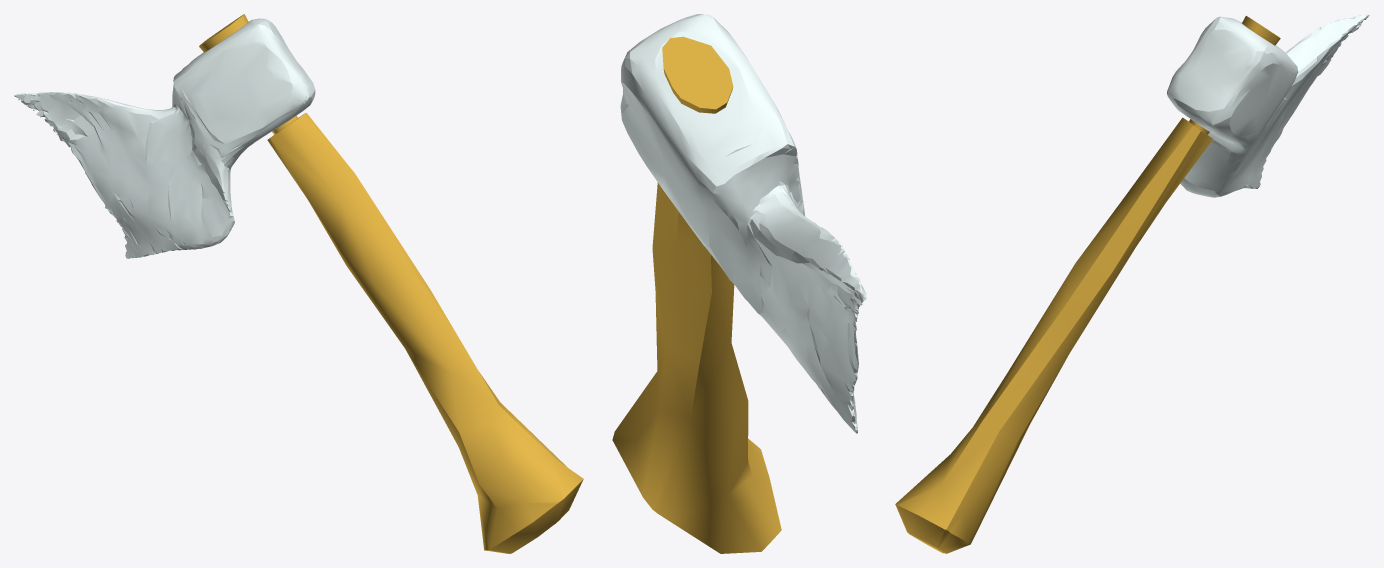
File: axe-iron-4.glb
3 views of the same model, side by side, from view 1: azimuth 30°, elevation 25°; view 2: azimuth 150°, elevation 25°; view 3: azimuth 270°, elevation 25° (orthographic). The views are drawn at different scales.
Visible parts, largest first — view 1: iron-axe-head, iron-axe; view 2: iron-axe-head, iron-axe; view 3: iron-axe, iron-axe-head.
Boxes of the visible parts, left/top/right/bottom form: iron-axe-head: left=14, top=18, right=315, bottom=258; iron-axe: left=199, top=14, right=583, bottom=553; iron-axe-head: left=620, top=14, right=866, bottom=433; iron-axe: left=612, top=36, right=781, bottom=553; iron-axe: left=895, top=16, right=1280, bottom=553; iron-axe-head: left=1167, top=14, right=1369, bottom=197.
Size of the model in its own units: 0.7106 by 0.8652 by 0.7817.
